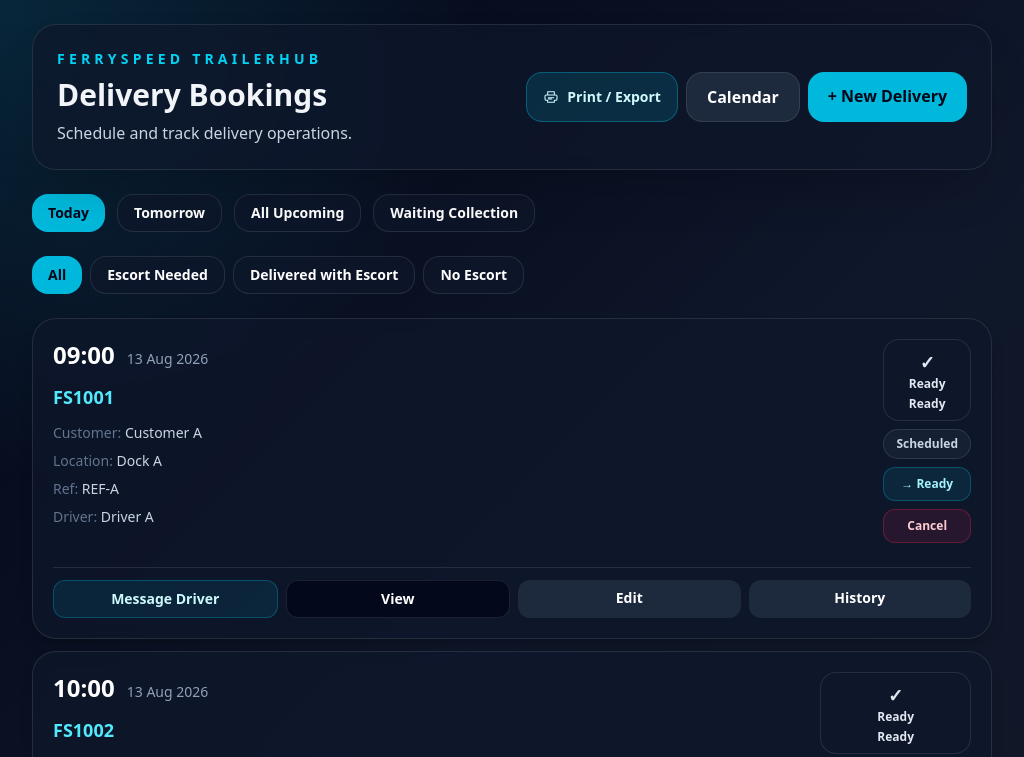
Scenario: DeliveriesPage › keeps the no escort filter showing bookings without escort flags
Expected: the text "Driver A" is shown, [101, 507, 154, 526]
Click the button "No Escort" at (474, 275), box [423, 256, 524, 294]
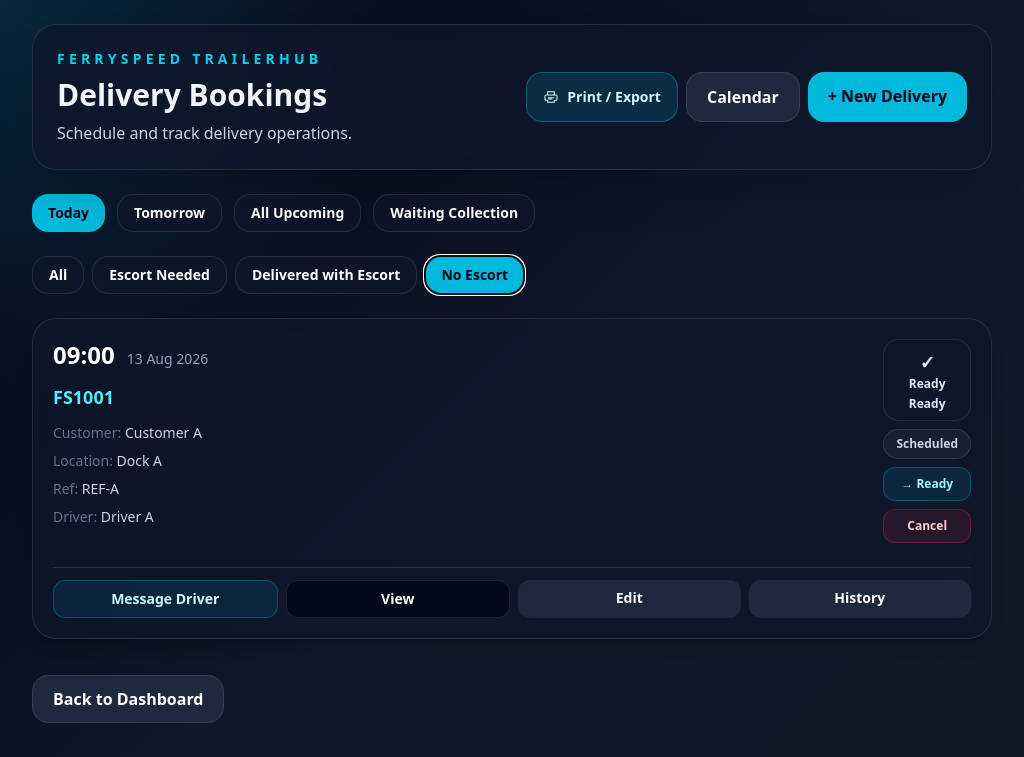
Expected: the text "FS1001" is shown, [53, 385, 114, 409]
Expected: the text "FS1002" is gone
